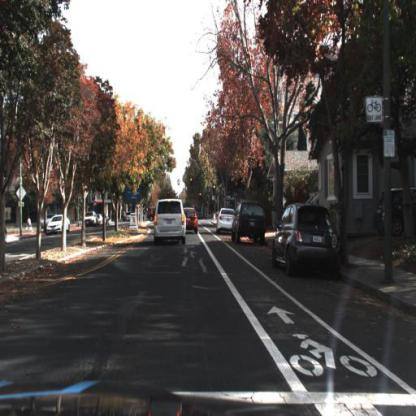car: (269, 201, 350, 285), (228, 198, 270, 249), (153, 197, 190, 249), (45, 210, 74, 240), (214, 203, 237, 239), (183, 204, 201, 240), (81, 210, 97, 234)
trafficLight-Red: (190, 177, 194, 189), (200, 191, 204, 203), (213, 185, 217, 197)
trafficLight-RedLeft: (167, 190, 171, 204)
